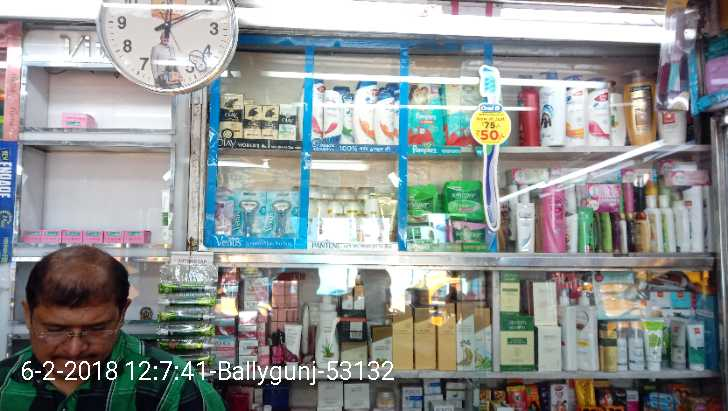venus: (265, 191, 299, 234), (234, 192, 265, 234)
